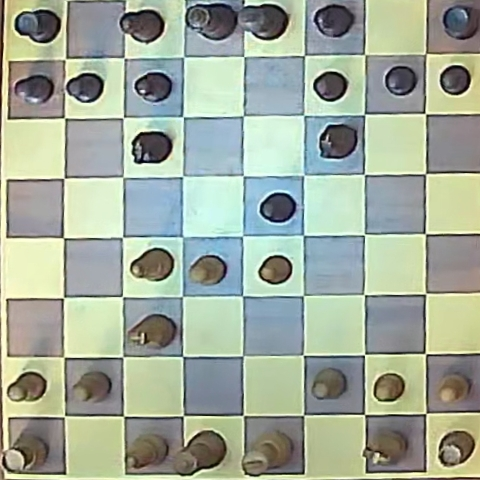black-bishop: (120, 9, 165, 44), (313, 4, 353, 38)
black-king: (238, 4, 286, 40)
black-knight: (318, 124, 357, 158), (131, 131, 172, 163)
black-pawn: (14, 74, 54, 104), (66, 72, 104, 103), (134, 71, 172, 102), (260, 192, 296, 223), (313, 71, 347, 101), (384, 65, 417, 95), (439, 65, 471, 94)
black-queen: (186, 3, 238, 40)
black-rook: (15, 9, 60, 44), (442, 5, 478, 39)
white-bishop: (127, 433, 168, 469), (131, 248, 174, 282)
white-king: (242, 429, 293, 475)
white-knight: (127, 314, 176, 349), (362, 430, 406, 466)
white-pawn: (72, 372, 110, 403), (7, 372, 46, 402), (188, 255, 225, 285), (312, 368, 345, 399), (259, 255, 293, 285), (437, 374, 469, 404), (374, 373, 405, 402)
white-queen: (173, 431, 226, 475)
white-rook: (2, 434, 47, 472), (437, 431, 474, 467)
